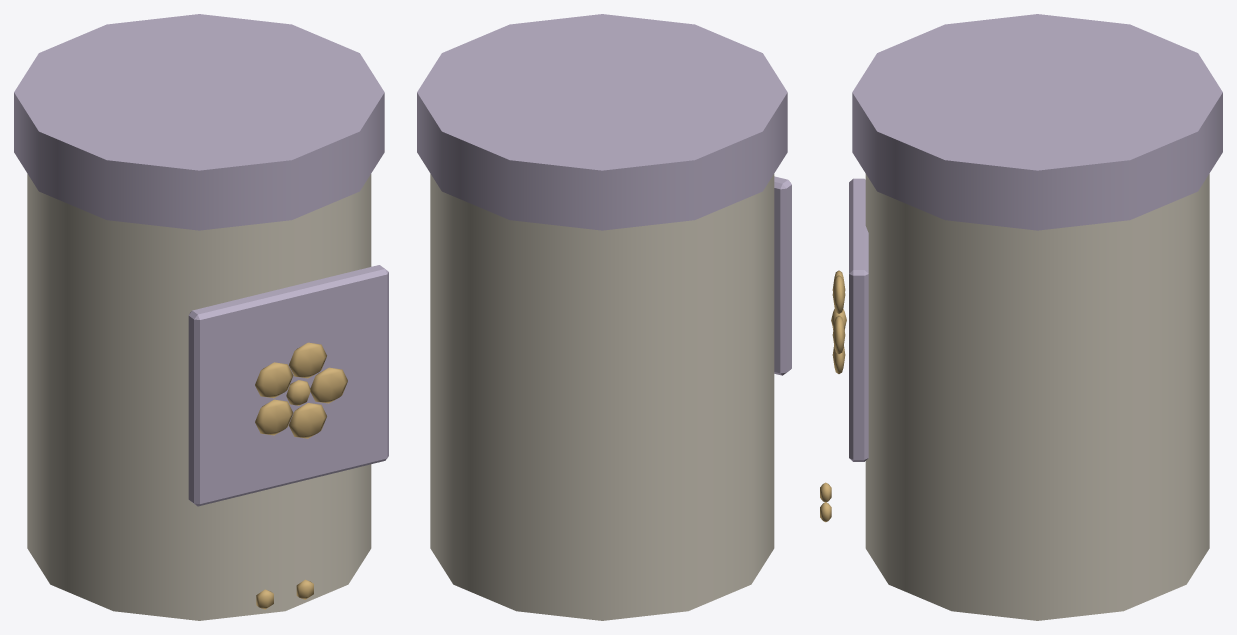
The picture shows the model from 3 angles, left to right: view 1: azimuth 30°, elevation 25°; view 2: azimuth 150°, elevation 25°; view 3: azimuth 270°, elevation 25°; orthographic projection.
Visible parts, largest first — view 1: g_s07; view 2: g_s07; view 3: g_s07.
Part boxes in pixels (x1,y1,x2,y2): g_s07: [14, 14, 388, 620]; g_s07: [417, 14, 791, 620]; g_s07: [820, 14, 1222, 620].
Size of the model in its own units: 0.28 by 0.38 by 0.3043.
